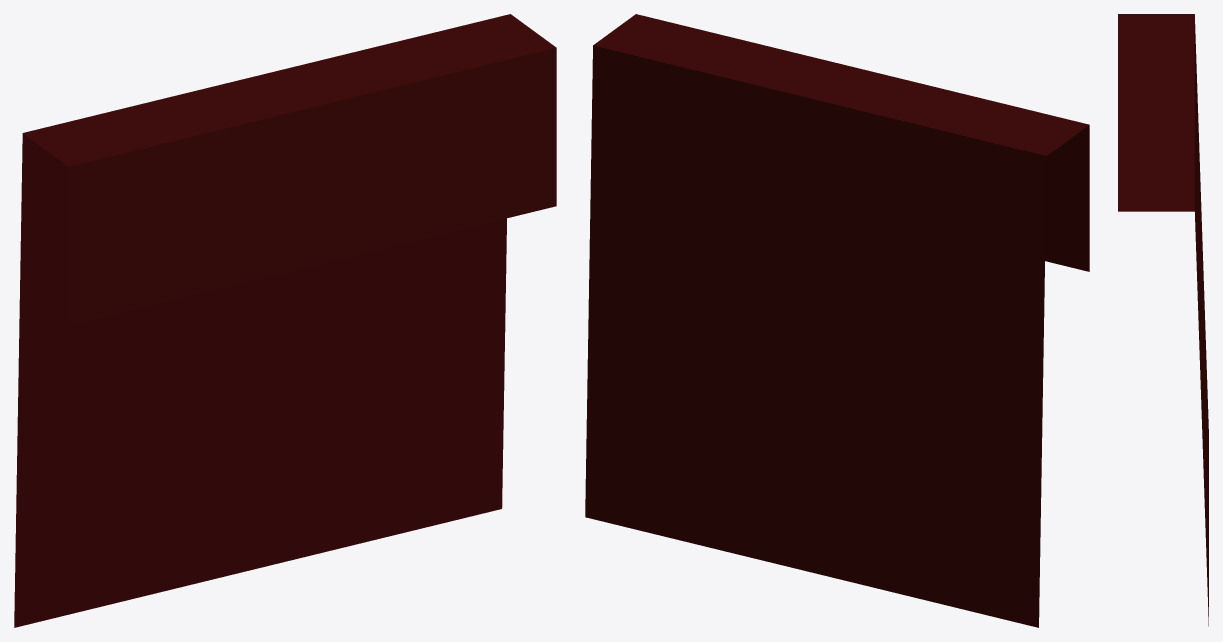
Rendered from Red Fabric.fbx.
3 views of the same model, side by side, from view 1: azimuth 30°, elevation 25°; view 2: azimuth 150°, elevation 25°; view 3: azimuth 270°, elevation 25° (orthographic). The views are drawn at different scales.
Visible parts, largest first — view 1: Red Fabric; view 2: Red Fabric; view 3: Red Fabric.
Part boxes in pixels (bbox=[...]): Red Fabric: bbox=[14, 14, 556, 627]; Red Fabric: bbox=[585, 14, 1089, 627]; Red Fabric: bbox=[1118, 14, 1208, 626].
Bounding box in the file's own units: 128 × 126 × 24.84.
